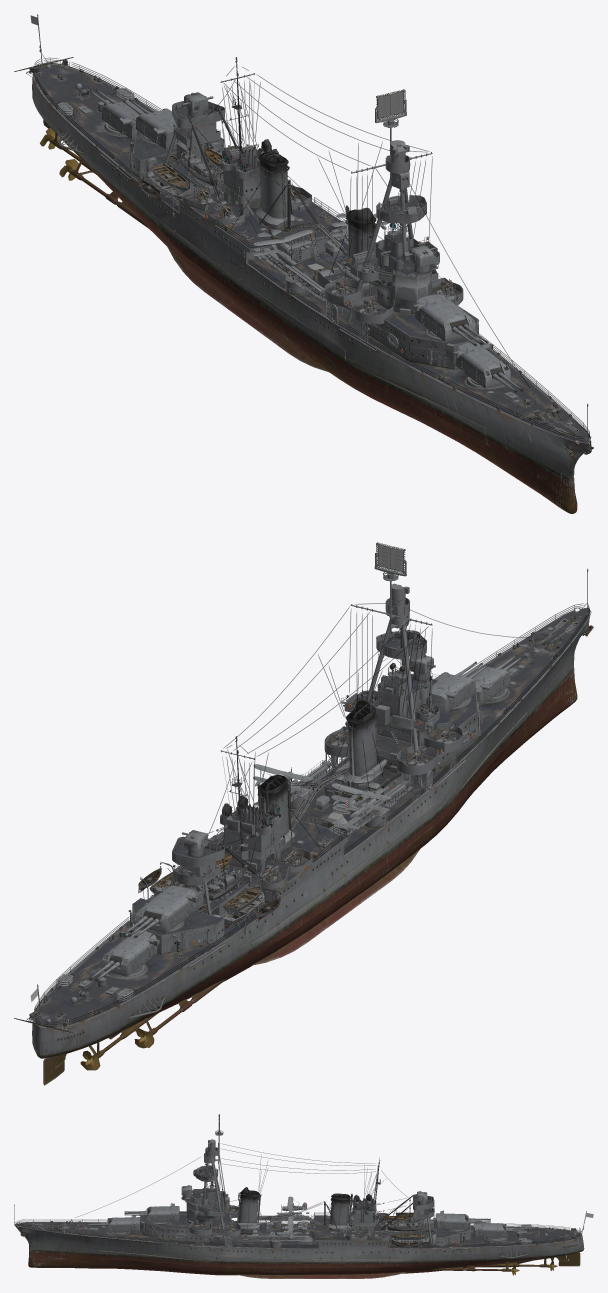
The model's file is uss_pensacola_war_thunder-maximum-compressed.glb.
3 renders of one model, top to bottom at view 1: azimuth 30°, elevation 25°; view 2: azimuth 150°, elevation 25°; view 3: azimuth 270°, elevation 25°, orthographic. The views are drawn at different scales.
Visible parts, largest first — view 1: Object_28, Object_27, Object_53, Object_14, Object_77, Object_56, Object_79, Object_80, Object_31, Object_37, Object_74, Object_43 (+7 smaller); view 2: Object_28, Object_27, Object_53, Object_14, Object_77, Object_56, Object_79, Object_80, Object_31, Object_74, Object_37, Object_43 (+8 smaller); view 3: Object_28, Object_14, Object_27, Object_53, Object_77, Object_56, Object_79, Object_80, Object_37, Object_74, Object_43, Object_31 (+10 smaller).
Boxes of the visible parts, <box> form: Object_28: <box>32,63,591,481</box>; Object_27: <box>132,92,480,369</box>; Object_53: <box>35,64,559,418</box>; Object_14: <box>43,119,577,513</box>; Object_77: <box>89,90,510,388</box>; Object_56: <box>33,63,590,443</box>; Object_79: <box>188,66,529,387</box>; Object_80: <box>34,19,589,440</box>; Object_31: <box>40,57,456,389</box>; Object_37: <box>187,109,328,216</box>; Object_74: <box>253,205,389,266</box>; Object_43: <box>38,67,589,454</box>; Object_28: <box>32,607,591,1057</box>; Object_27: <box>132,583,480,954</box>; Object_53: <box>34,645,558,1027</box>; Object_14: <box>39,669,577,1085</box>; Object_77: <box>95,664,510,981</box>; Object_56: <box>33,604,589,1028</box>; Object_79: <box>141,603,529,898</box>; Object_80: <box>34,603,589,1026</box>; Object_31: <box>80,571,521,1070</box>; Object_74: <box>253,764,390,818</box>; Object_37: <box>216,795,284,898</box>; Object_43: <box>56,619,589,1019</box>; Object_28: <box>14,1185,584,1263</box>; Object_14: <box>28,1250,581,1278</box>; Object_27: <box>140,1139,470,1247</box>; Object_53: <box>65,1209,579,1248</box>; Object_77: <box>107,1203,528,1237</box>; Object_56: <box>15,1150,579,1248</box>; Object_79: <box>75,1144,439,1247</box>; Object_80: <box>16,1199,586,1247</box>; Object_37: <box>338,1193,413,1240</box>; Object_74: <box>276,1196,307,1238</box>; Object_43: <box>23,1219,565,1266</box>; Object_31: <box>193,1130,553,1275</box>.
Bounding box in the file's own units: 25.69 × 51.72 × 182.
Materials: 31 (31 with a texture image).
